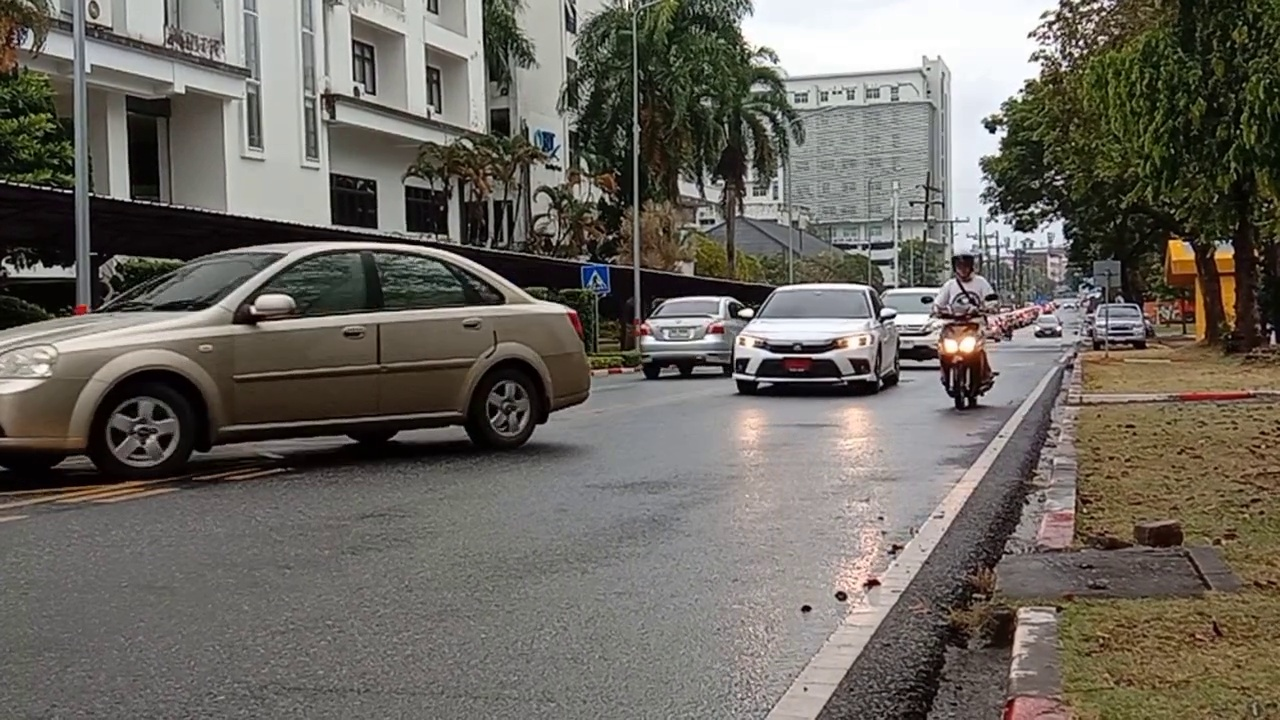License Plate: (781, 353, 813, 374)
